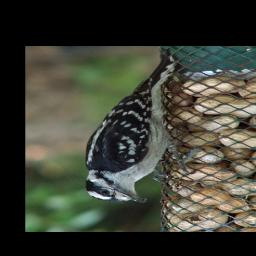Woodpecker: (70, 50, 198, 205)
